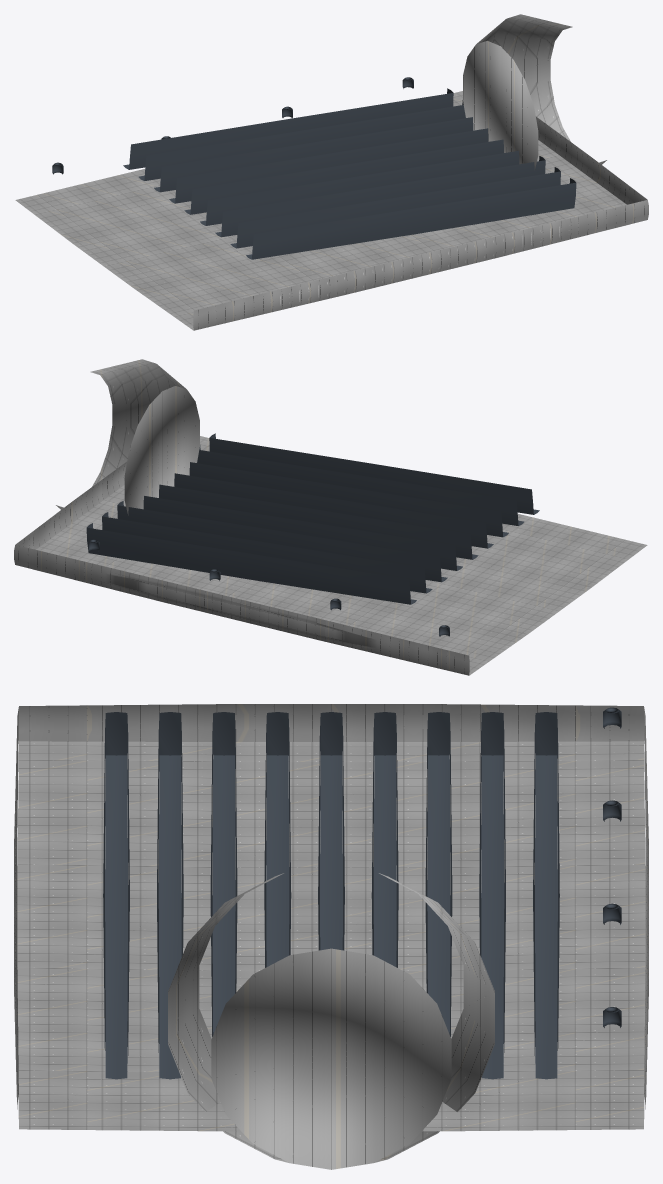
Rendered from greeble_vents.glb.
The picture shows the model from 3 angles, top to bottom: view 1: azimuth 30°, elevation 25°; view 2: azimuth 150°, elevation 25°; view 3: azimuth 270°, elevation 25°; orthographic projection. The views are drawn at different scales.
Visible parts, largest first — view 1: greeble_vents_Material_Hull_Merged, greeble_vents_Material_Mechanical_Merged; view 2: greeble_vents_Material_Hull_Merged, greeble_vents_Material_Mechanical_Merged; view 3: greeble_vents_Material_Hull_Merged, greeble_vents_Material_Mechanical_Merged.
Part boxes in pixels (<box>): greeble_vents_Material_Hull_Merged: <box>15,14,648,330</box>; greeble_vents_Material_Mechanical_Merged: <box>52,77,576,259</box>; greeble_vents_Material_Hull_Merged: <box>14,359,647,675</box>; greeble_vents_Material_Mechanical_Merged: <box>86,433,539,636</box>; greeble_vents_Material_Hull_Merged: <box>14,704,648,1169</box>; greeble_vents_Material_Mechanical_Merged: <box>103,707,621,1079</box>.
Bounding box in the file's own units: 4 × 1.36 × 2.6.
Materials: 2 (1 with a texture image).
